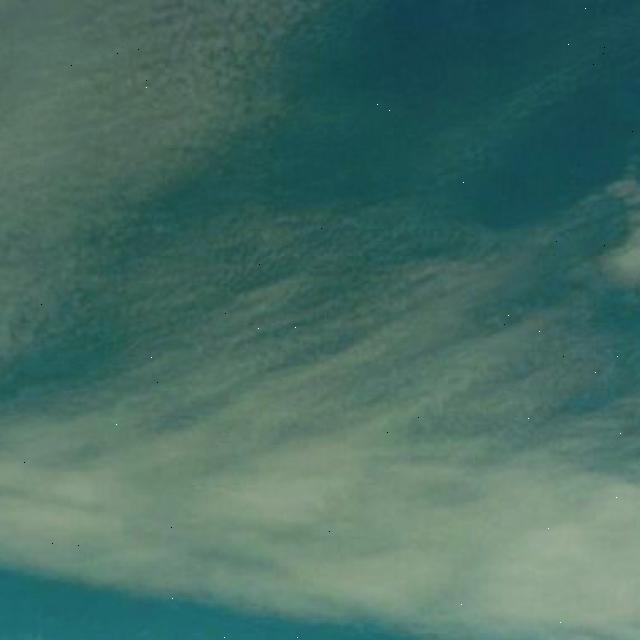Cc: (1, 10, 640, 591)
